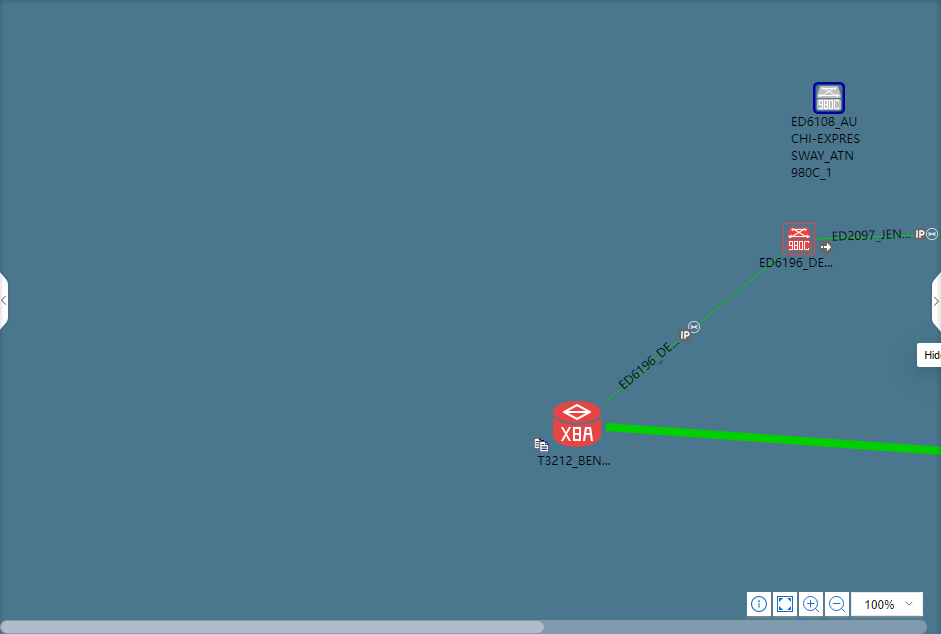ATN_Gray: (813, 82, 844, 113)
ATN_Red: (784, 224, 813, 252)
Link_Green: (605, 253, 782, 403), (606, 423, 940, 455), (816, 232, 941, 241)
Router_Red: (553, 402, 600, 447)
